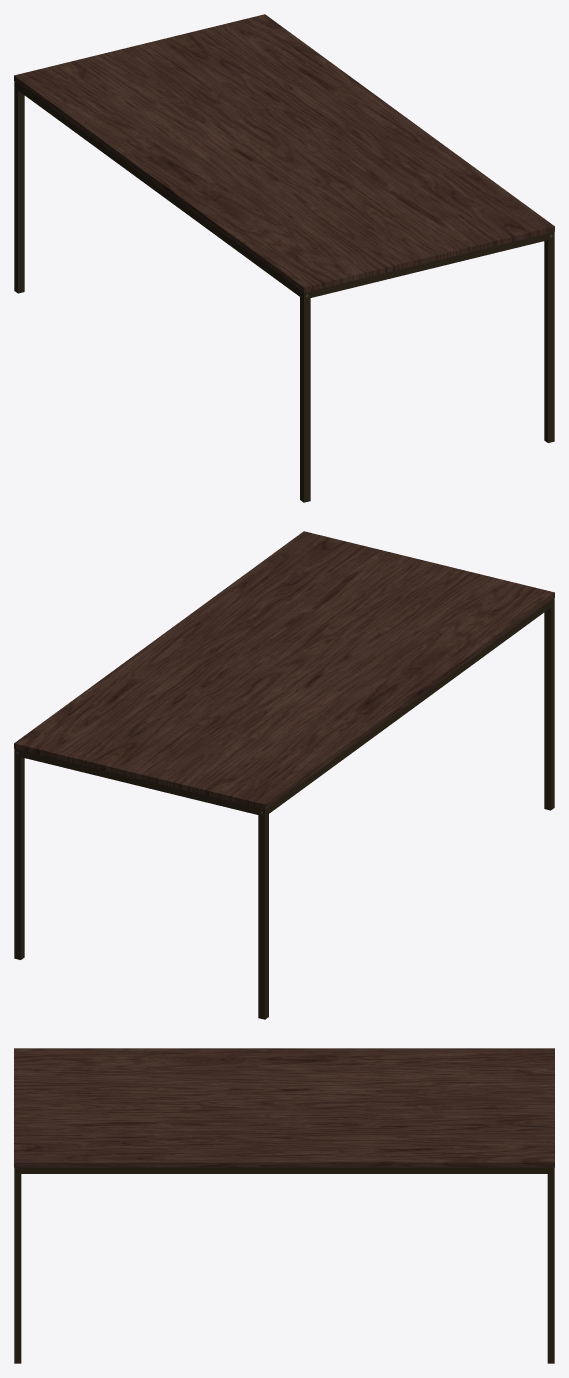
File: table.obj
The picture shows the model from 3 angles, top to bottom: view 1: azimuth 30°, elevation 25°; view 2: azimuth 150°, elevation 25°; view 3: azimuth 270°, elevation 25°; orthographic projection. The views are drawn at different scales.
Parts seen in each view (by area): view 1: top, Cube.001, Cube, Cube.002; view 2: top, Cube, Cube.001, Cube.002; view 3: top, Cube.003, Cube, Cube.001.
Part boxes in pixels (x1=…): top: x1=14, y1=14, x2=554, y2=292; Cube.001: x1=300, y1=232, x2=554, y2=502; Cube: x1=14, y1=81, x2=24, y2=293; Cube.002: x1=18, y1=84, x2=299, y2=296; top: x1=14, y1=531, x2=554, y2=809; Cube: x1=14, y1=749, x2=268, y2=1019; Cube.001: x1=544, y1=598, x2=554, y2=810; Cube.002: x1=269, y1=601, x2=550, y2=813; top: x1=14, y1=1048, x2=554, y2=1167; Cube.003: x1=21, y1=1167, x2=547, y2=1173; Cube: x1=547, y1=1167, x2=554, y2=1363; Cube.001: x1=14, y1=1167, x2=21, y2=1363.
Size of the model in its own units: 195 by 160 by 390.
